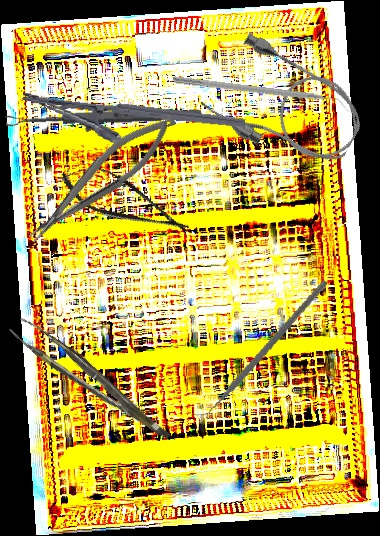Cannula: (195, 27, 376, 186)
Chopper: (190, 262, 328, 435), (170, 76, 352, 114)
Micro Scissor: (53, 153, 198, 249)
Needle Holder: (15, 104, 187, 251), (18, 90, 246, 160)
Surgical Spoon: (5, 107, 202, 127)
Tissue Forceps: (8, 307, 171, 458)
